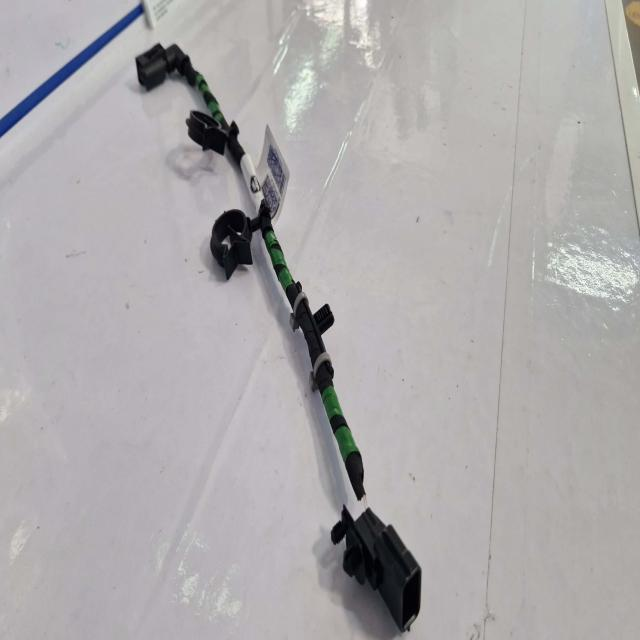AJ20_D6_Cable: (136, 45, 365, 499)
Clip: (245, 125, 290, 223), (186, 109, 244, 163), (210, 210, 252, 279)
Connector: (331, 506, 421, 631), (136, 45, 190, 91)
